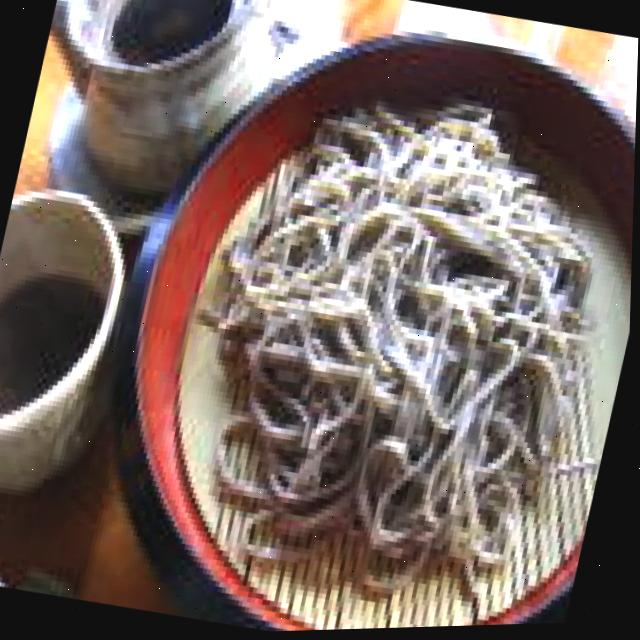面条主食: (47, 0, 640, 639)
